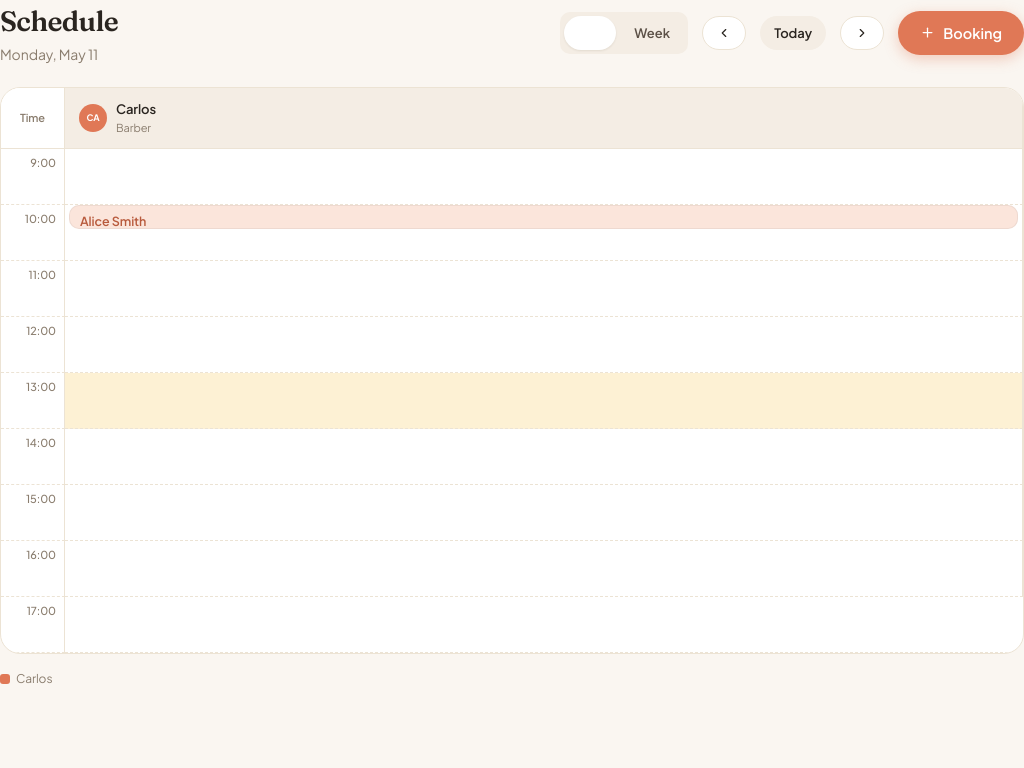
Test: Schedule appointment detail modal › shows in-chair, no-show, and cancel buttons for a scheduled appointment
Step 1. Click the text "Alice Smith" → point(113, 221), box [80,213,146,229]
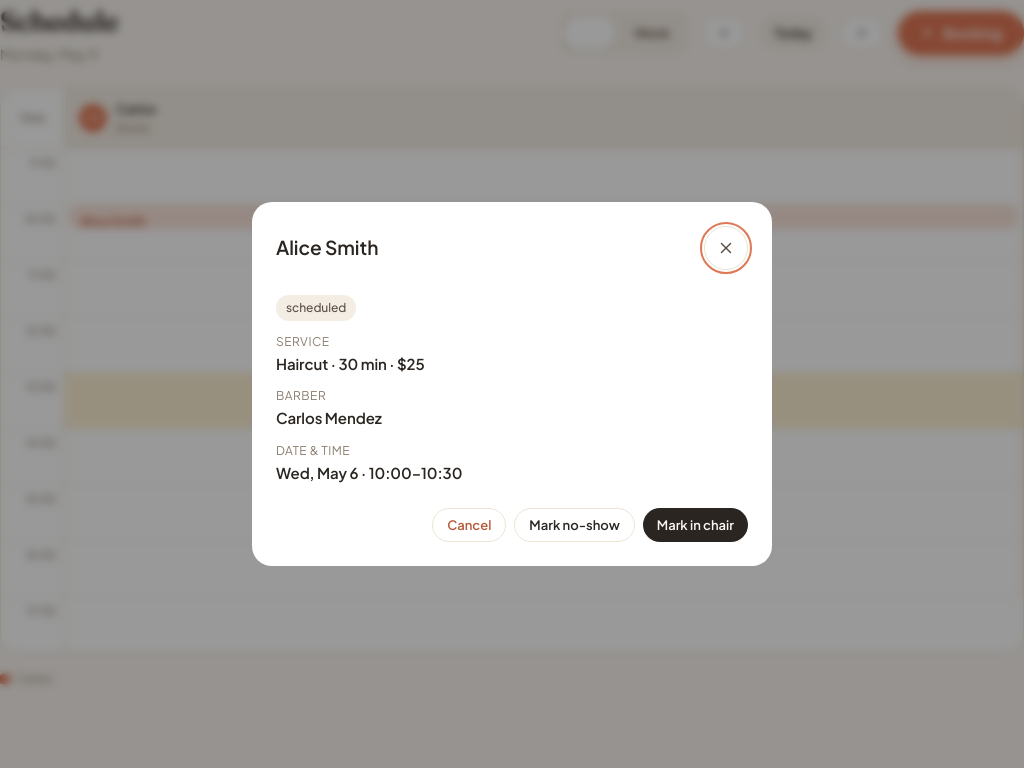
Expected: the button "Mark in chair" is shown, [643,508,748,542]
Expected: the button "Mark no-show" is shown, [514,508,635,542]
Expected: the button "Cancel" is shown, [432,508,506,542]
